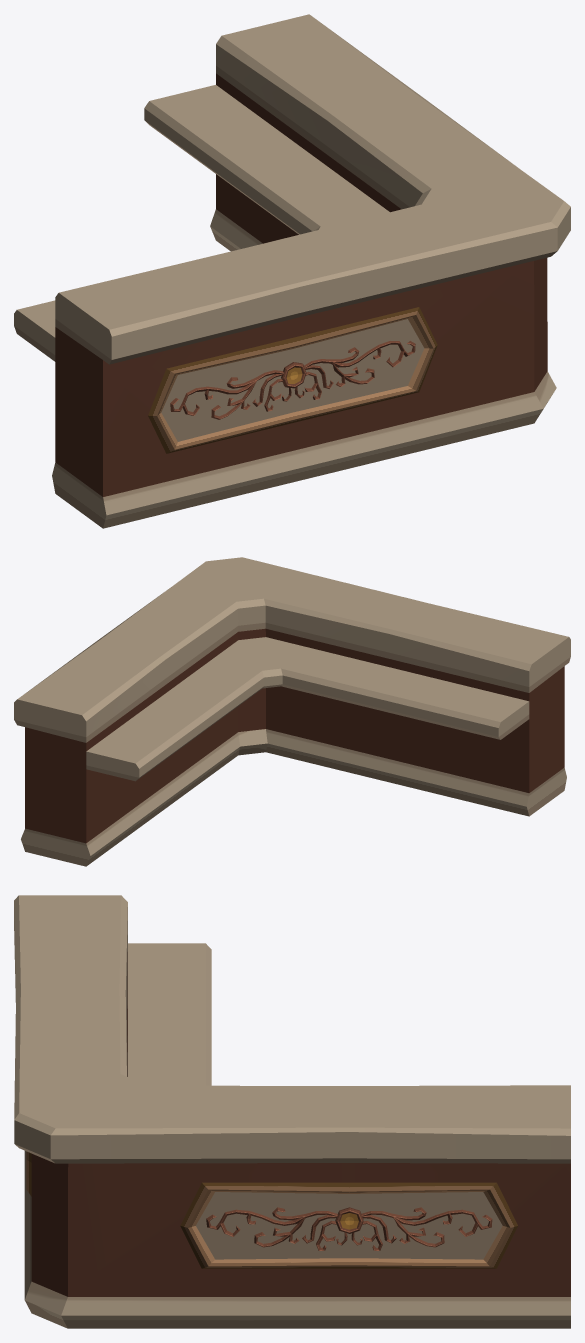
File: SM_Prop_Front_Desk_Corner_01.obj
3 views of the same model, one above another, from view 1: azimuth 30°, elevation 25°; view 2: azimuth 150°, elevation 25°; view 3: azimuth 270°, elevation 25° (orthographic). The views are drawn at different scales.
Parts seen in each view (by area): view 1: SM_Prop_Front_Desk_Corner_01_0; view 2: SM_Prop_Front_Desk_Corner_01_0; view 3: SM_Prop_Front_Desk_Corner_01_0.
Part boxes in pixels (x1,y1,x2,y2): SM_Prop_Front_Desk_Corner_01_0: (14, 14, 570, 528); SM_Prop_Front_Desk_Corner_01_0: (14, 557, 570, 866); SM_Prop_Front_Desk_Corner_01_0: (14, 895, 570, 1328).
Size of the model in its own units: 3.14 by 1.28 by 3.14.
1 material, 1 textured.
